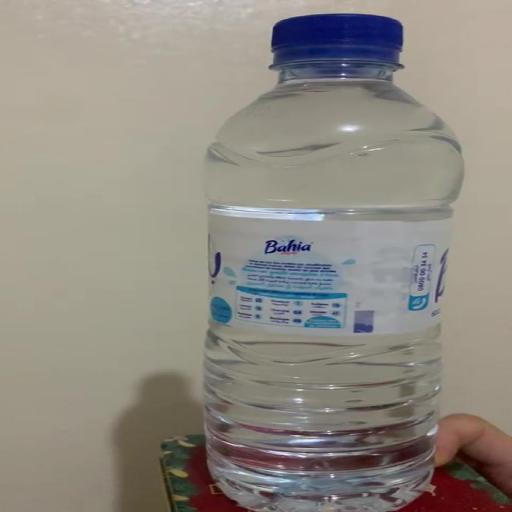bouteille conformite: (206, 87, 437, 511), (274, 15, 401, 95)
